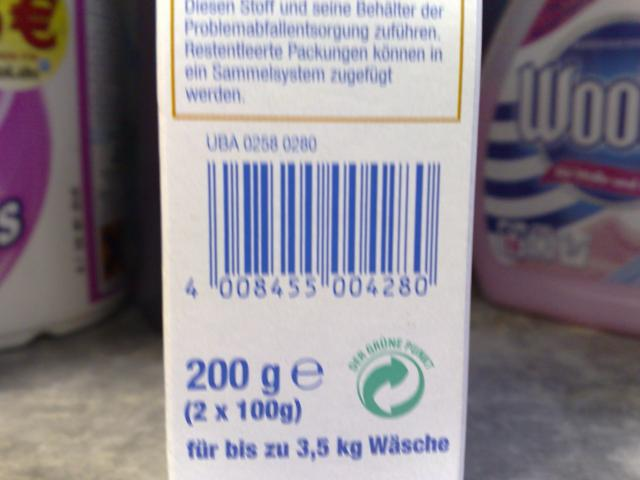Barkod: (202, 162, 438, 273)
